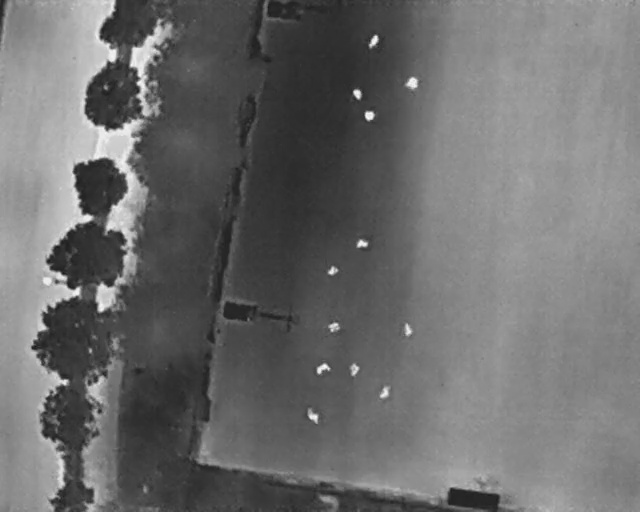Person: (302, 403, 324, 426), (375, 382, 396, 404), (364, 32, 382, 52), (344, 361, 362, 380), (313, 360, 332, 377), (402, 321, 415, 339), (404, 76, 419, 89), (328, 321, 342, 334), (355, 238, 369, 249), (326, 265, 340, 276), (352, 87, 362, 101), (364, 110, 375, 122)
